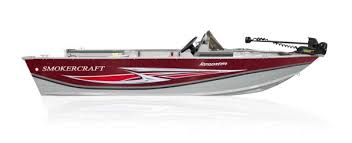boat: (21, 30, 327, 98)
